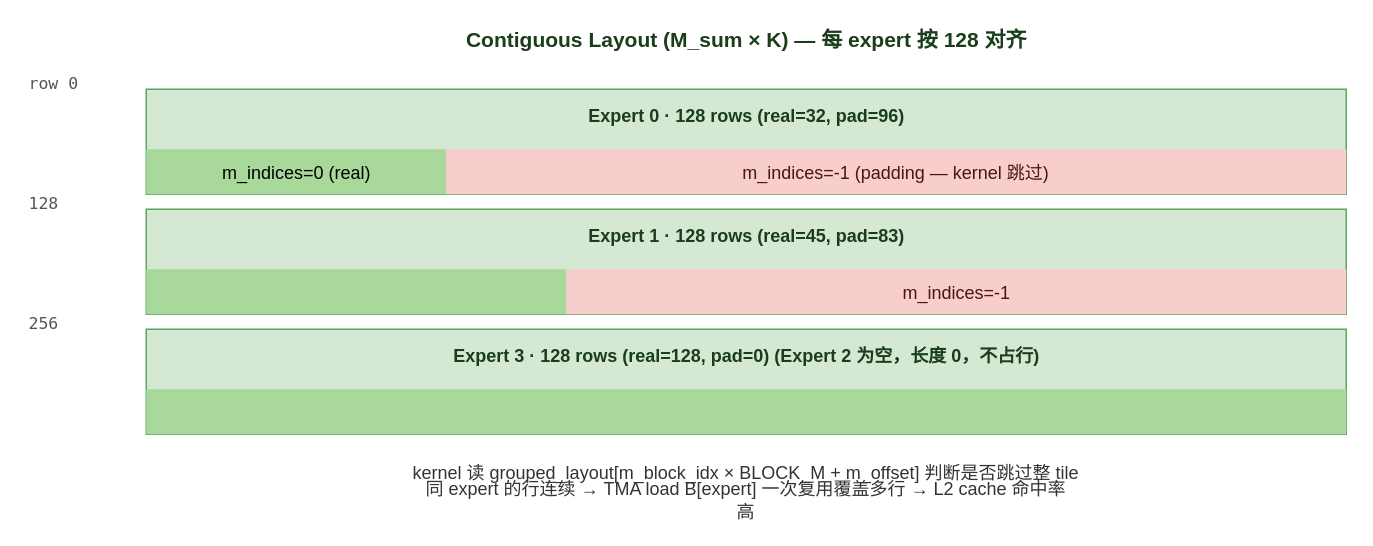
The diagram is 1373 pixels wide and 546 high, and some of its shapes have lost their labels. Each missing label, with the centre of its shape:
"m_indices=1 (real)" goes at (x=356, y=291).
"m_indices=3 (real, 完全填满)" goes at (x=746, y=411).
